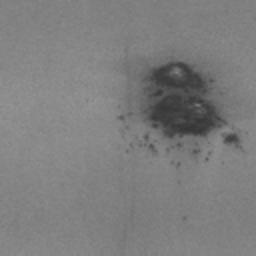Iron sheet ash: (150, 60, 229, 140), (225, 133, 241, 143)
